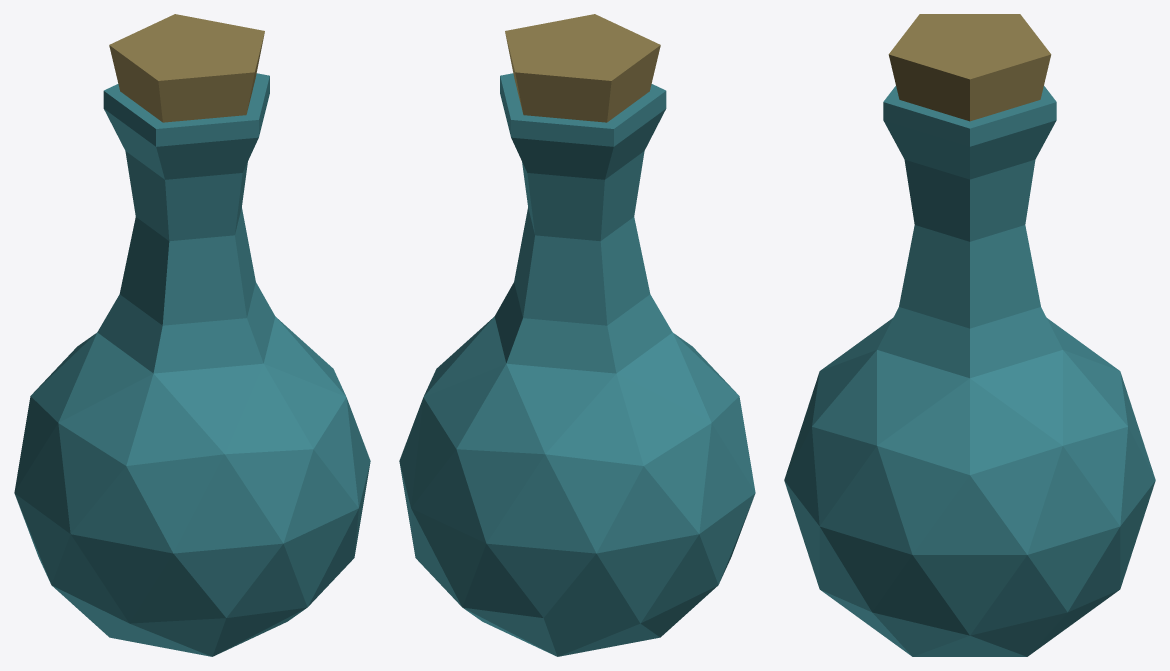
File: health_potion.fbx
3 renders of one model, left to right at view 1: azimuth 30°, elevation 25°; view 2: azimuth 150°, elevation 25°; view 3: azimuth 270°, elevation 25°, orthographic. The views are drawn at different scales.
Visible parts, largest first — view 1: Icosphere; view 2: Icosphere; view 3: Icosphere.
Boxes of the visible parts, x1,y1,x2,y2 form: Icosphere: [14, 14, 370, 656]; Icosphere: [399, 14, 755, 656]; Icosphere: [784, 14, 1155, 656].
Size of the model in its own units: 109 by 207 by 115.
